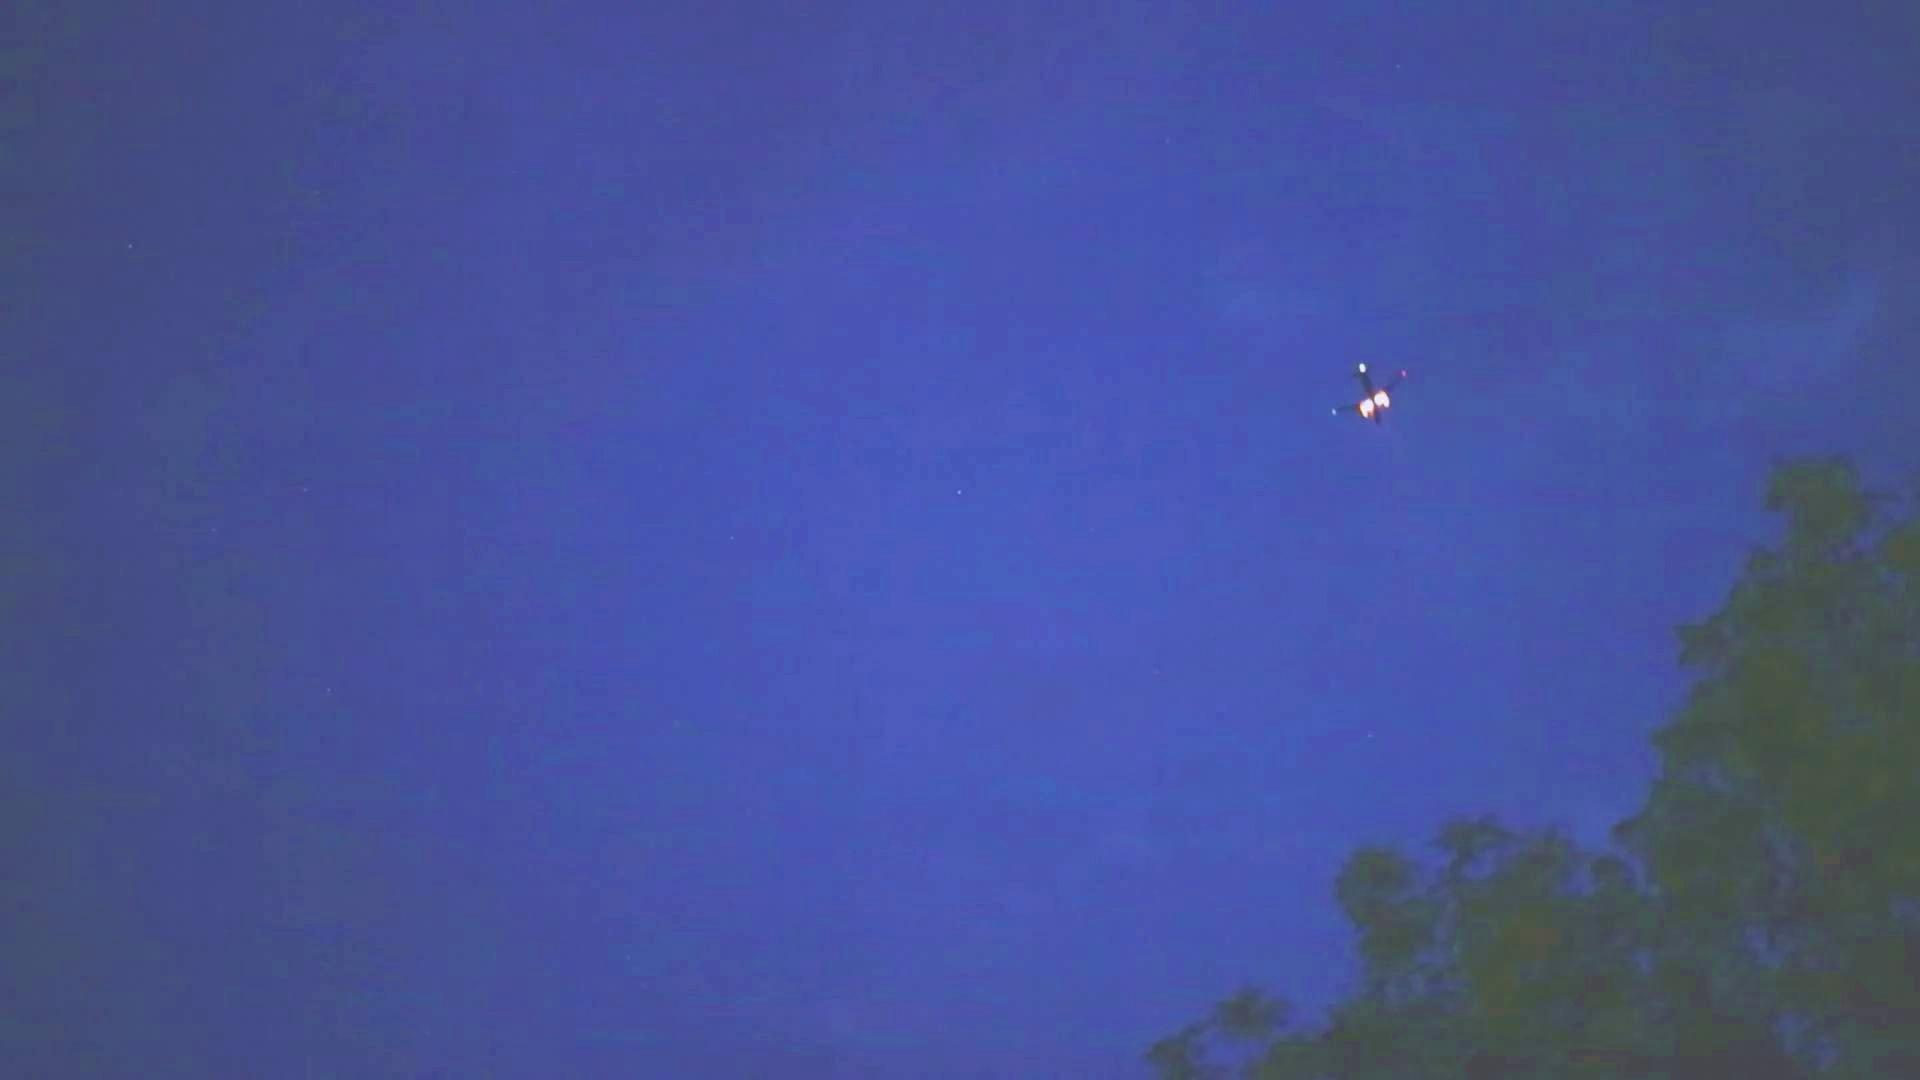Plane: (1317, 348, 1422, 440)
